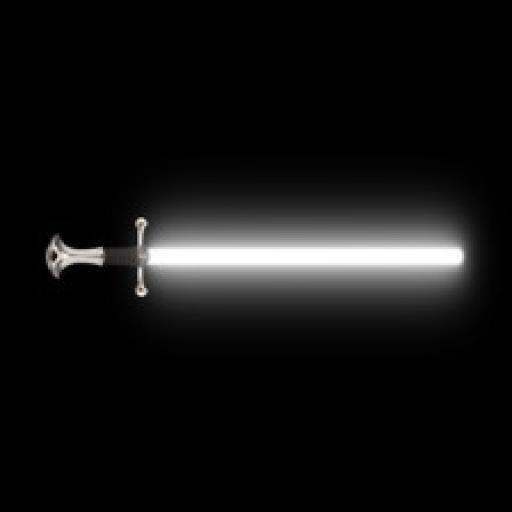lightsaber: (46, 216, 464, 300)
